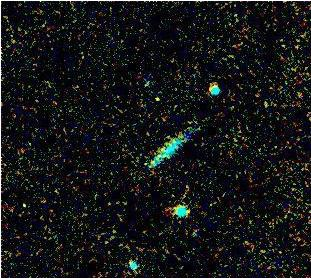star: (142, 83, 172, 113)
